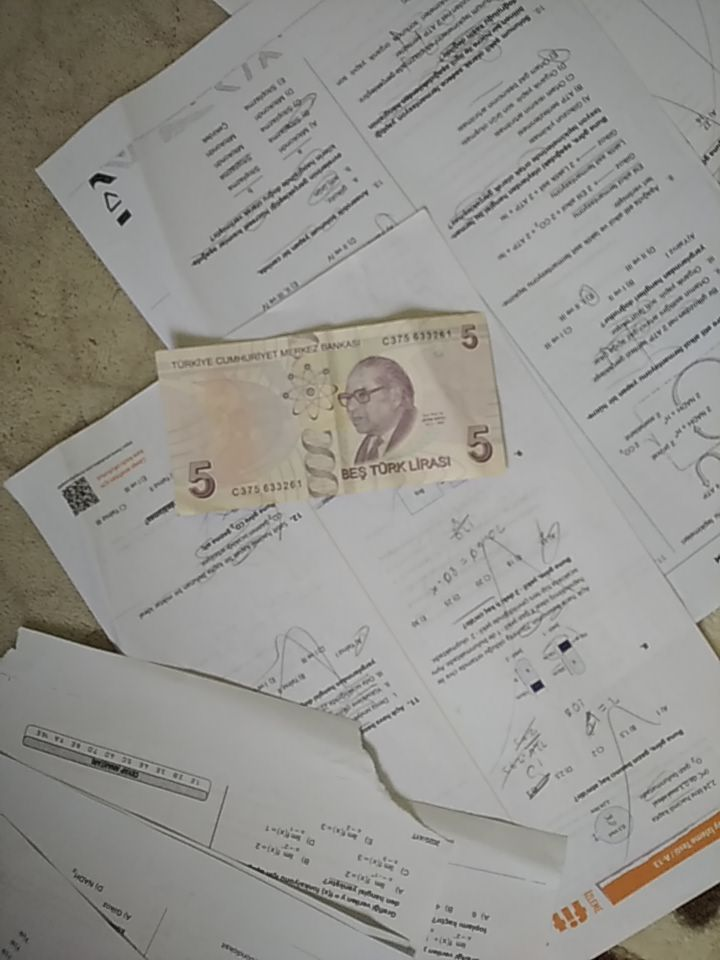5TL: (154, 310, 511, 516)
